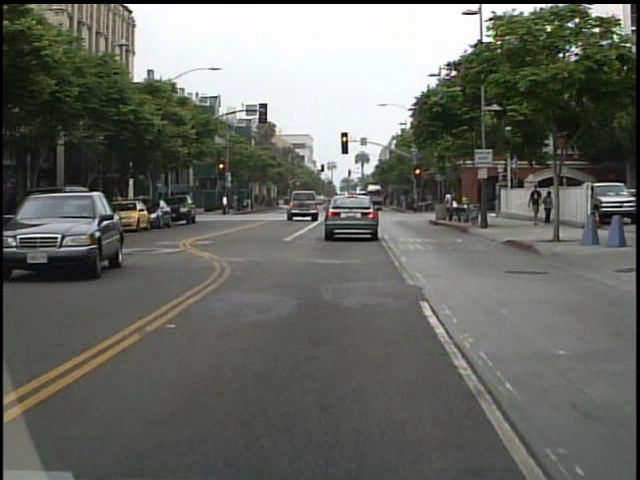person: (527, 182, 544, 226), (441, 188, 460, 225), (539, 188, 556, 229), (219, 191, 232, 219)
